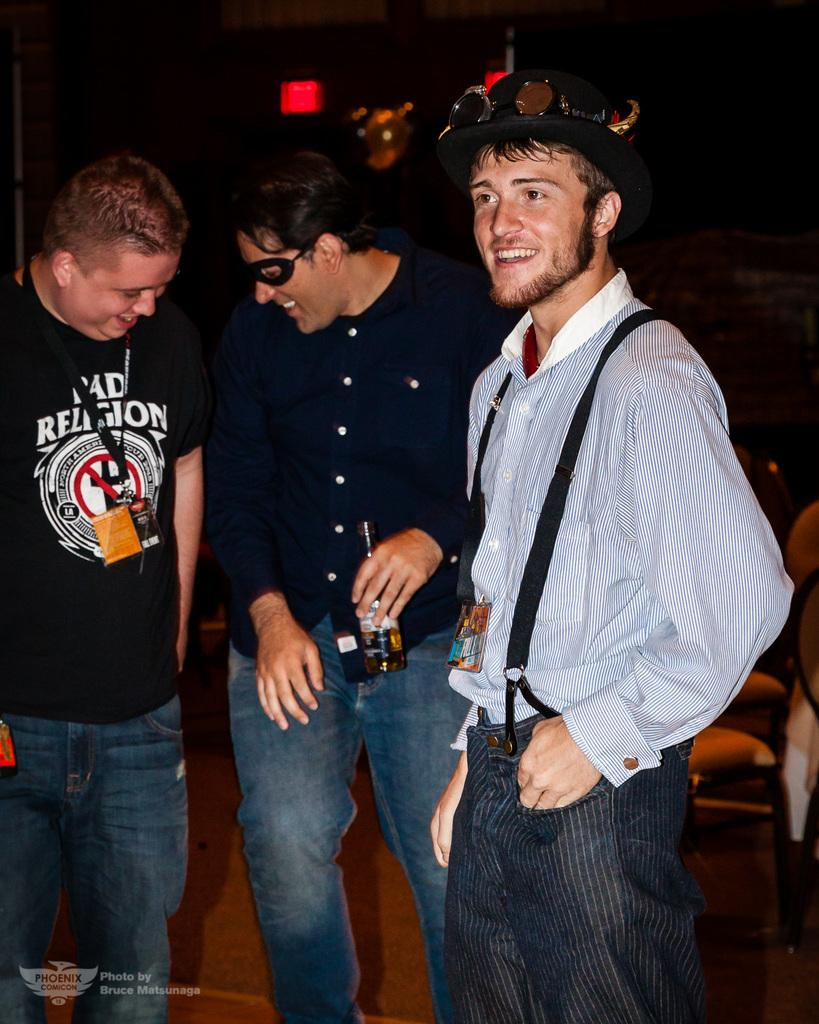Hat: (436, 54, 658, 224)
